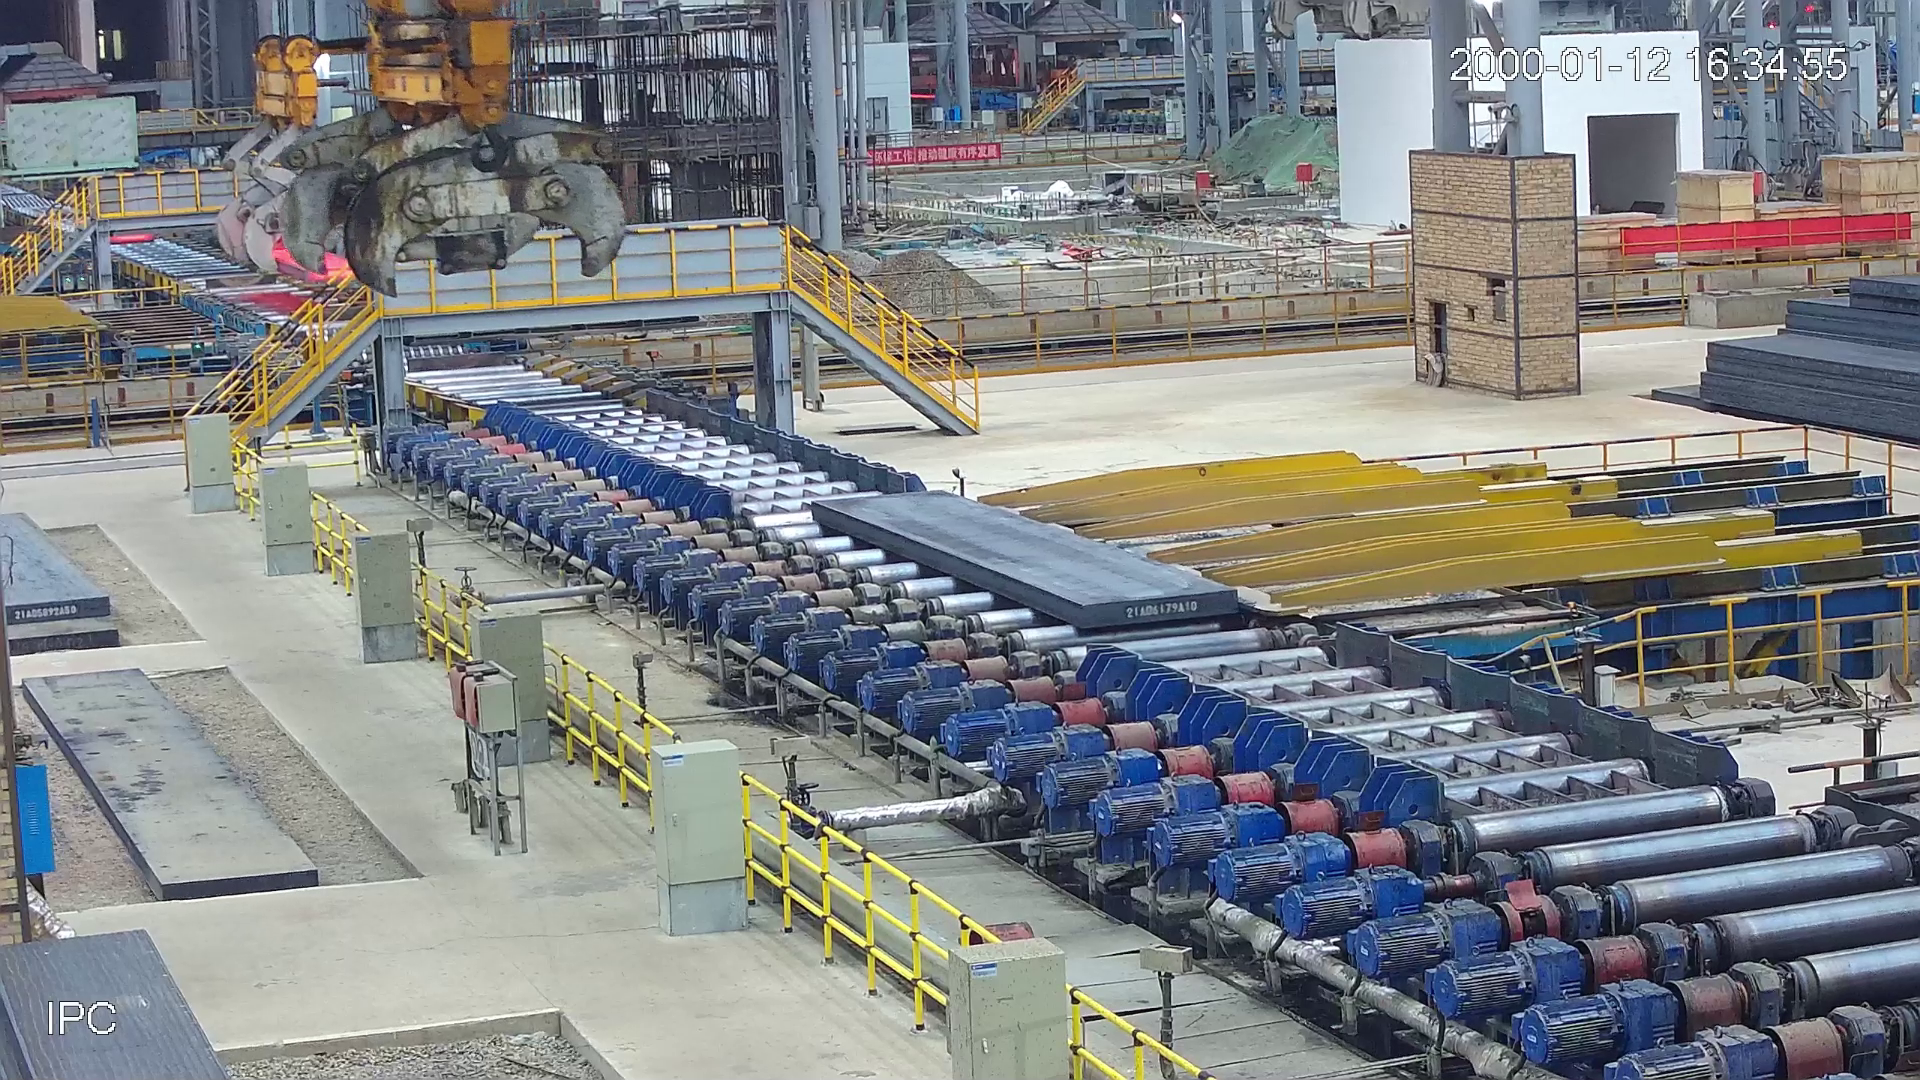crane: (280, 1, 621, 291)
craneandslab: (218, 30, 365, 291)
slab: (808, 495, 1236, 629)
